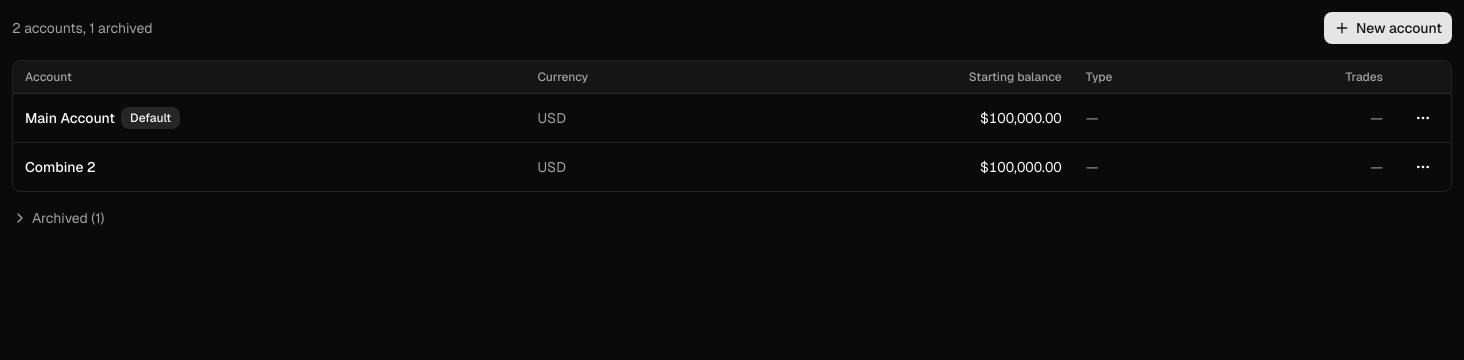
Test: the list › folds archived accounts away under their own heading
The image size is (1464, 360).
expect the text "Old challenge" is not shown: met
Click the button "Archived (1)".
click(58, 218)  # box [12,208,104,228]
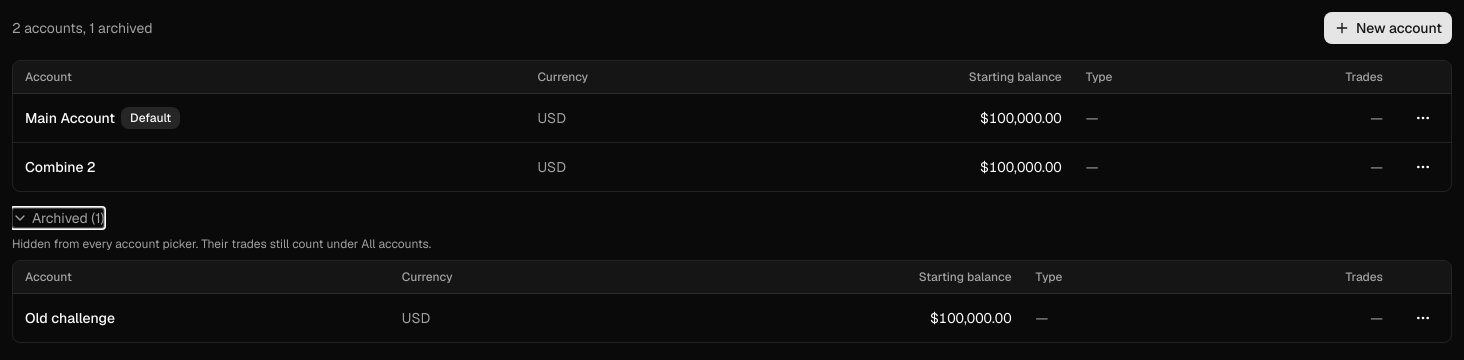
expect the text "Old challenge" is shown: met, box [25,308,115,328]
